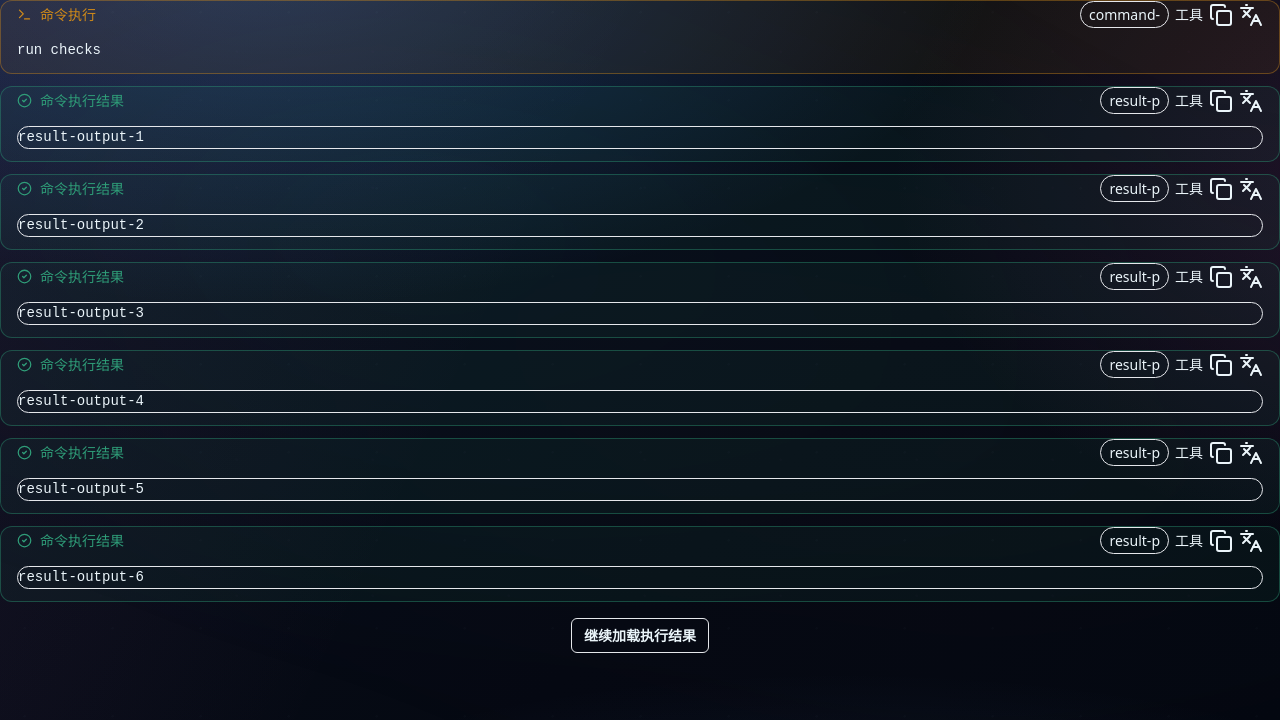
Scenario: ConversationContentCards › progressively mounts large result groups instead of putting every result in the DOM
This screenshot has width=1280, height=720.
Expected: the text "result-output-6" is shown, [18,569,144,585]
Expected: the text "result-output-7" is not shown
Click the button "继续加载执行结果" at [640, 636], box [571,618,709,653]
(page scrolled)
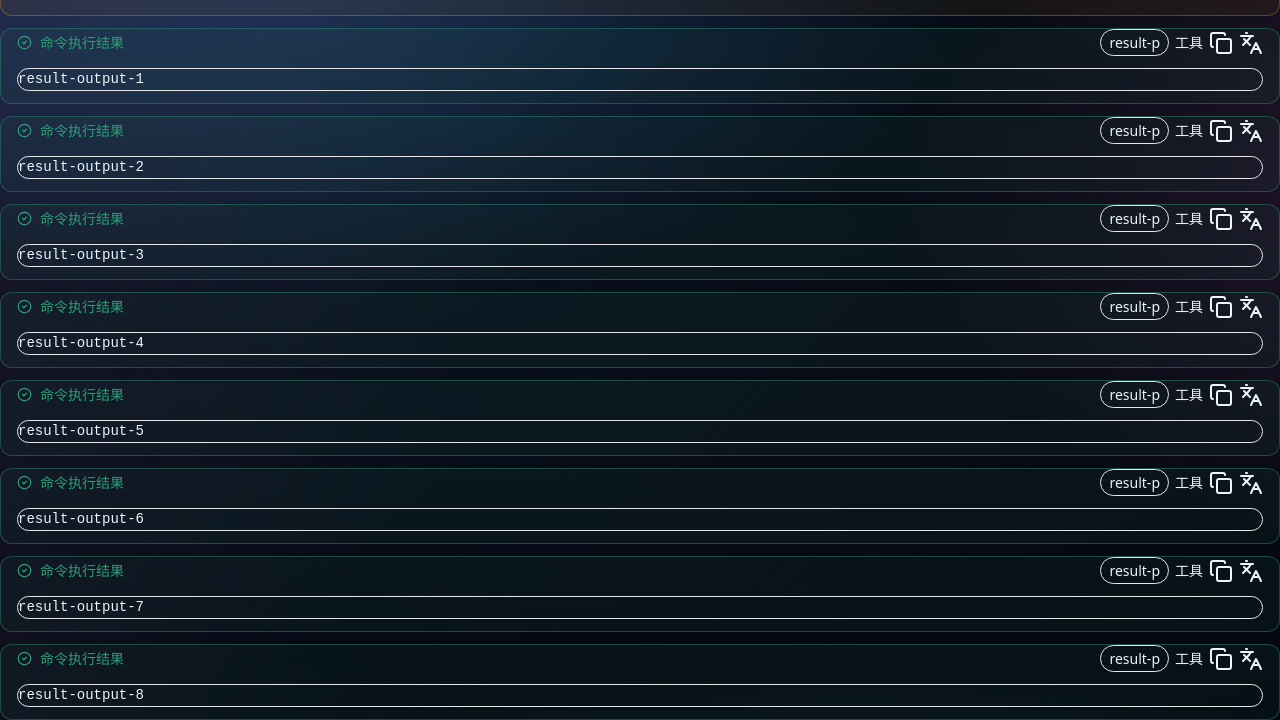
Now the text "result-output-8" is shown, box [18,687,144,703]
